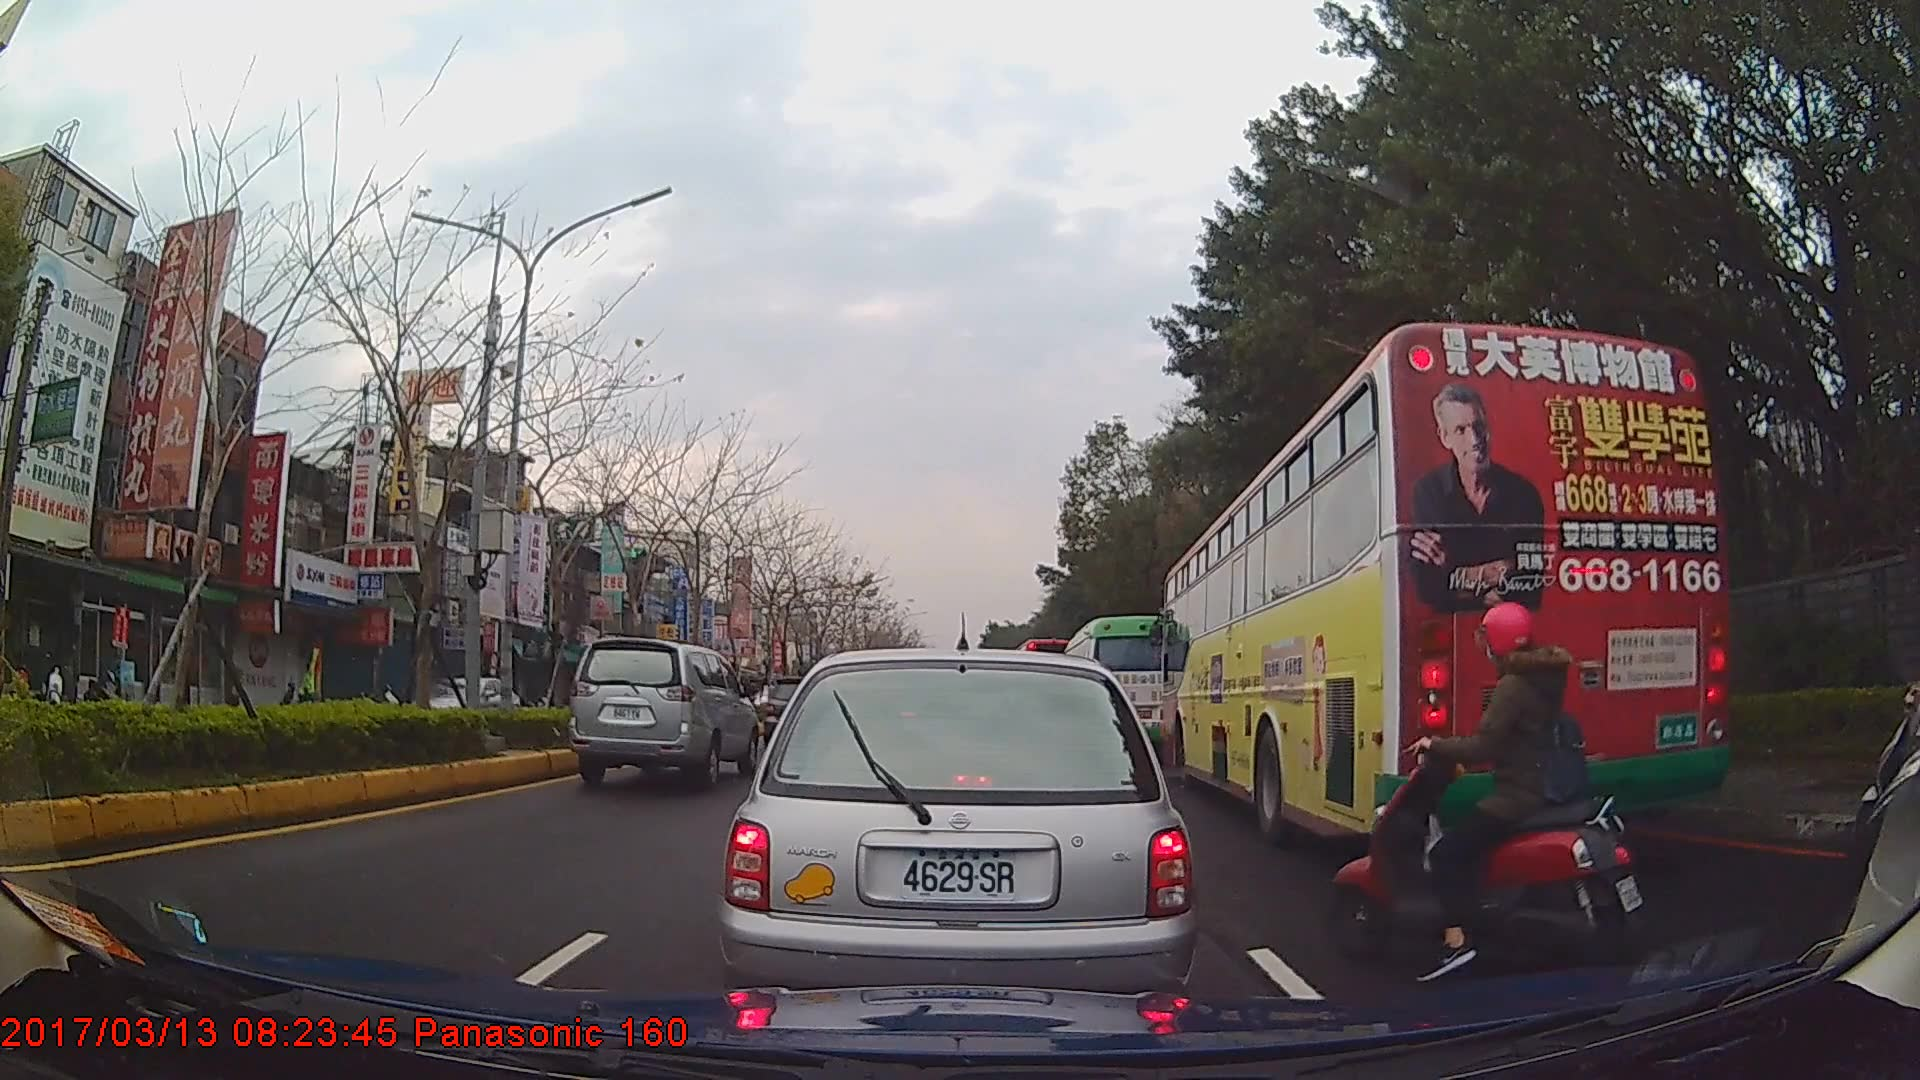rider: (1326, 601, 1648, 982), (1856, 571, 1920, 896)
vehicle: (1159, 319, 1728, 849), (718, 646, 1194, 1032), (567, 636, 759, 790), (1063, 614, 1186, 765), (400, 673, 519, 734)
